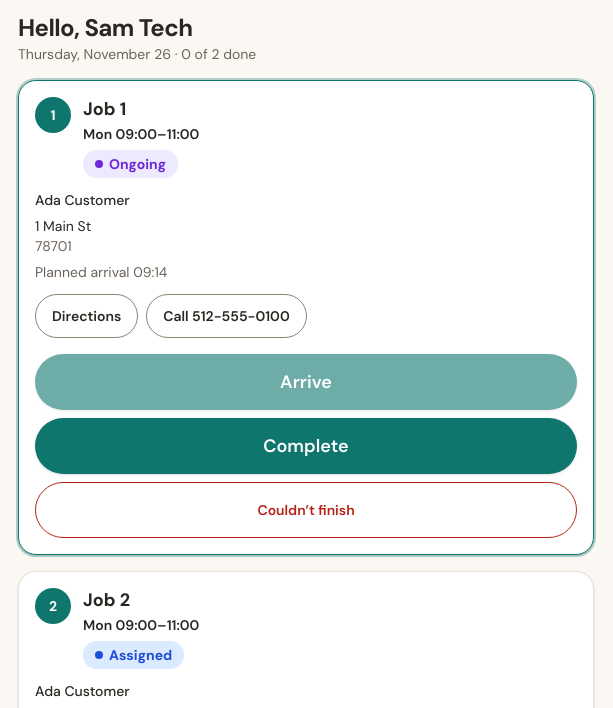
Scenario: TechnicianHome › Complete marks the job done and moves the large buttons to the next one
Click the button "Complete" at (306, 446), box top-left (35, 418), bottom-right (577, 474)
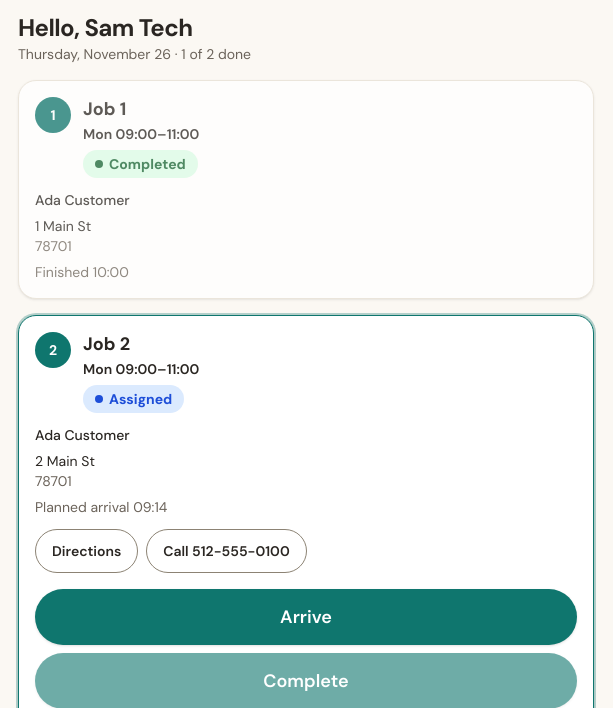
Result: the element with id "job-1" shows "Finished 10:00" at top-left (18, 80), bottom-right (594, 299)
Result: the text "1 of 2 done" is shown at top-left (171, 45), bottom-right (251, 63)
